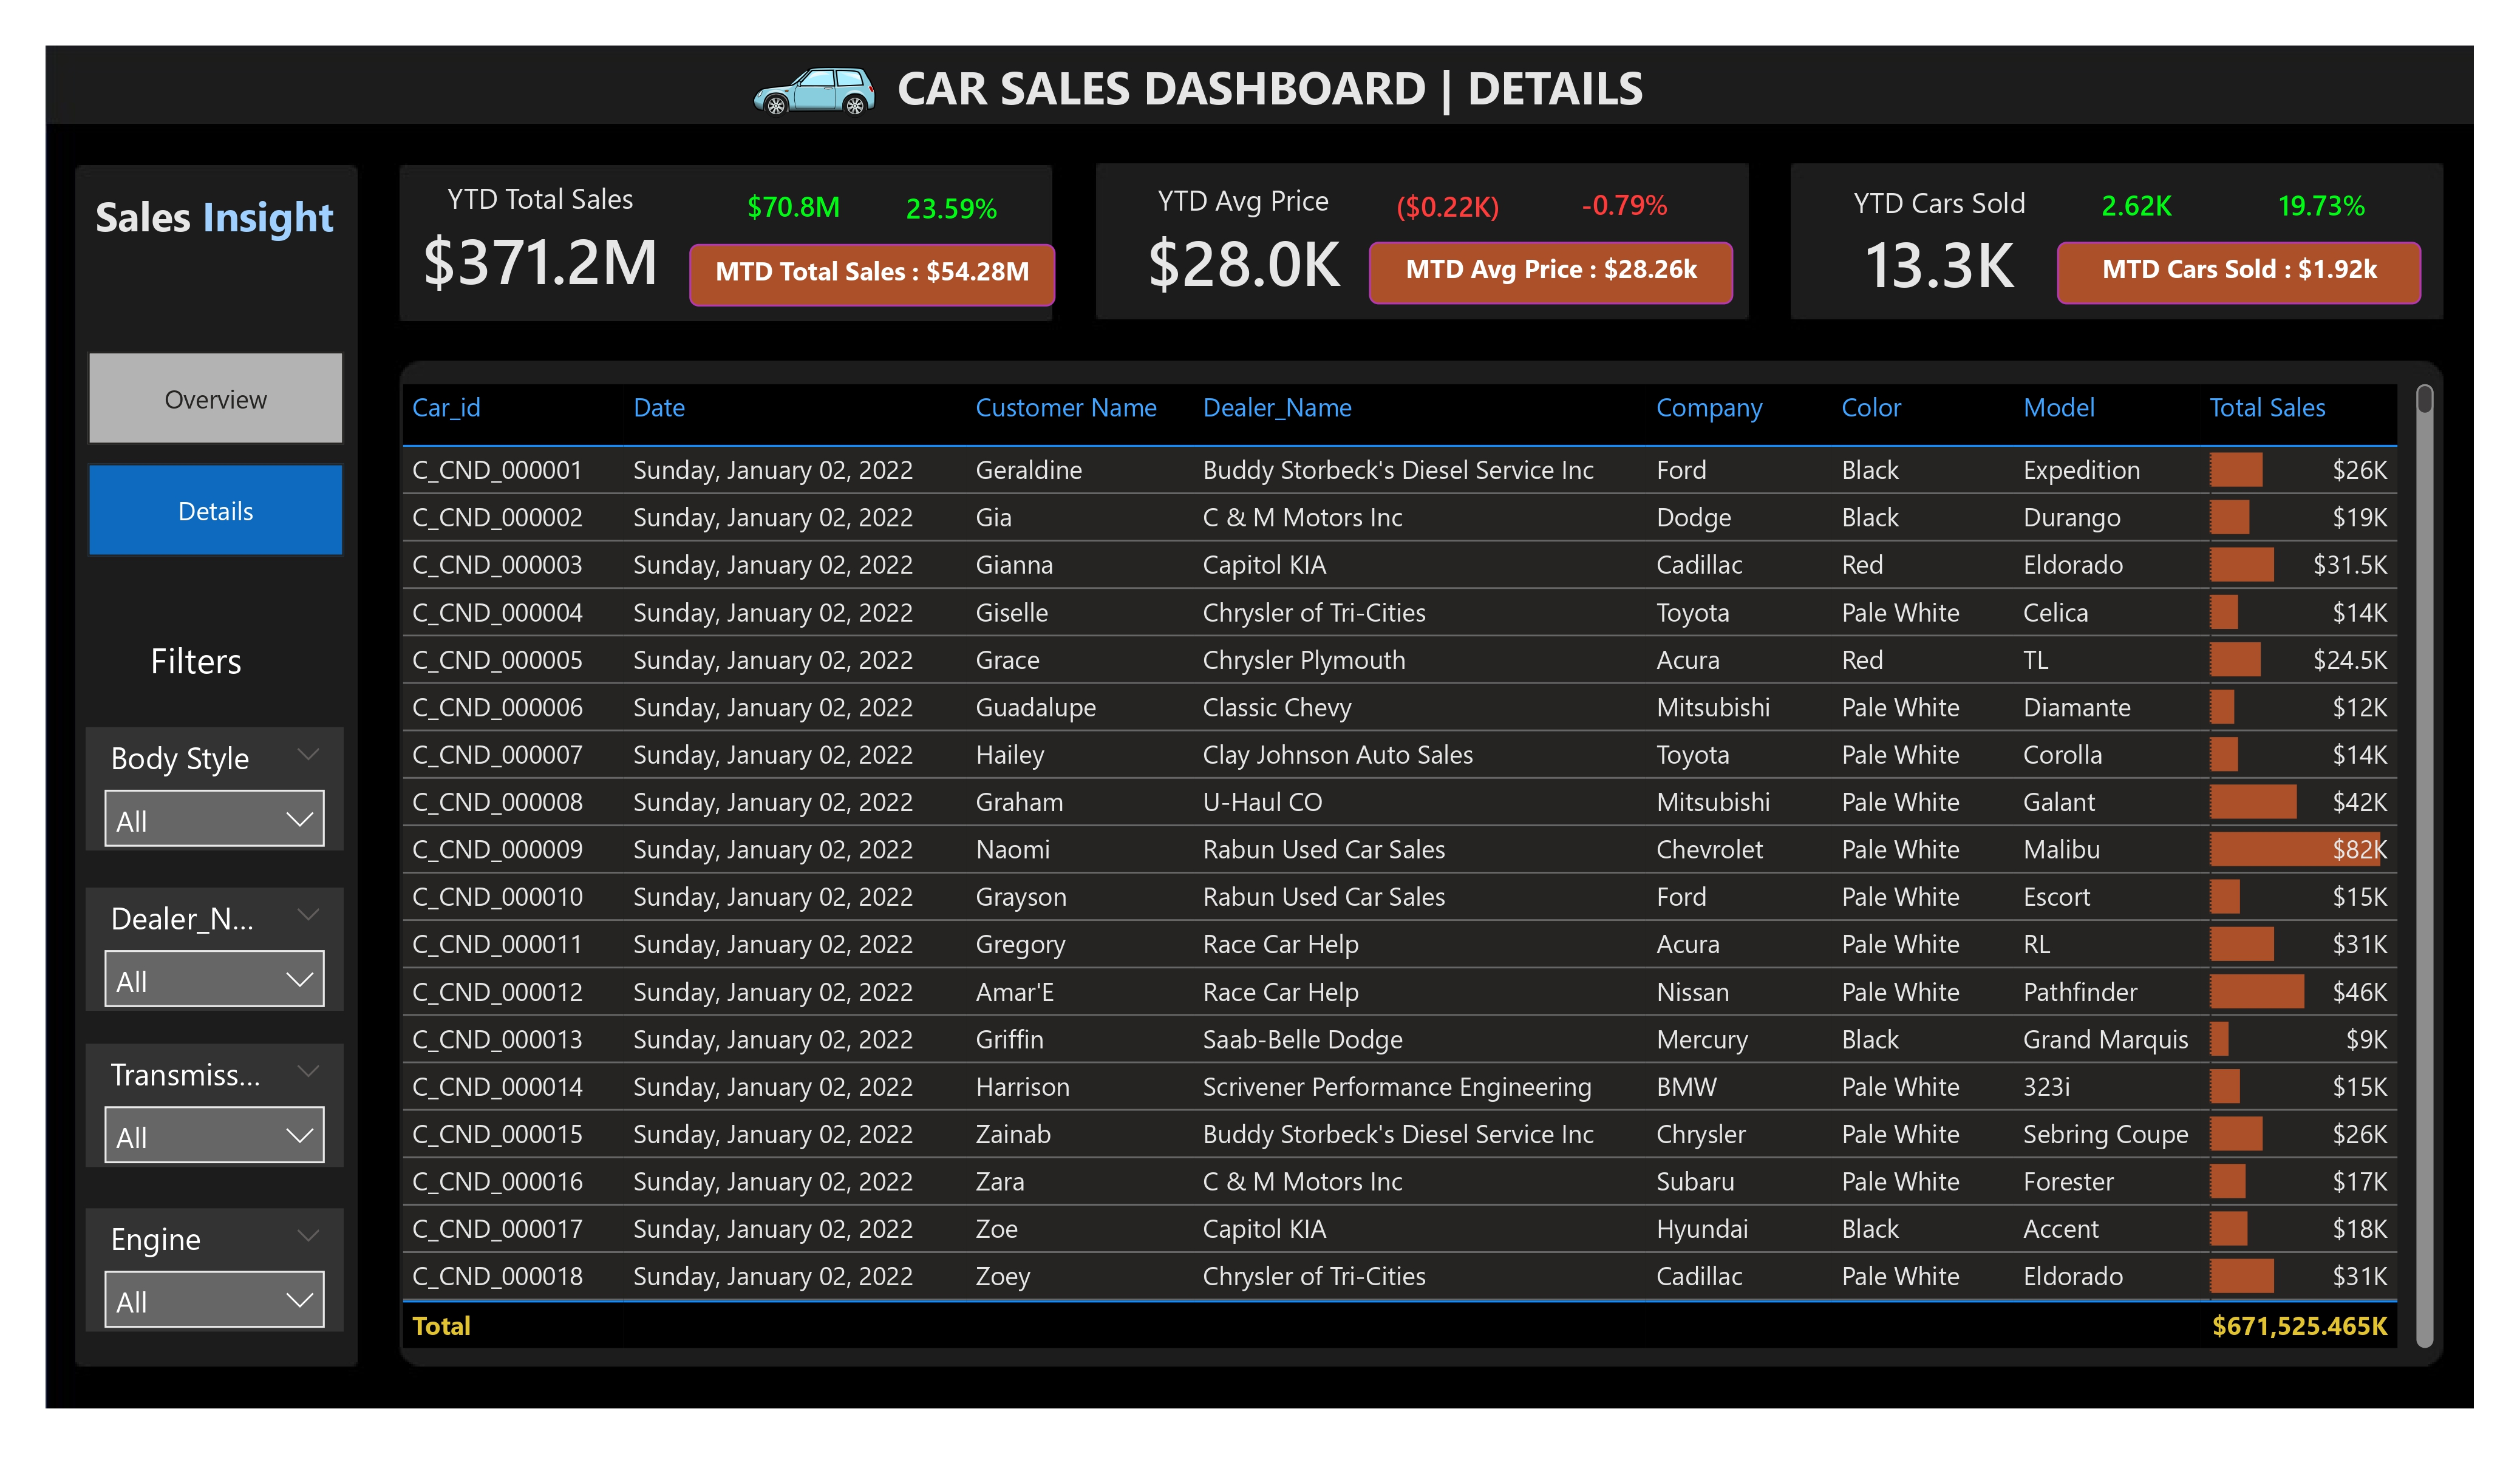

What the dashboard file says about the page in this screenshot:
{"tool":"powerbi","page":{"name":"Details","canvas":[1280,720],"ordinal":1},"visuals":[{"type":"card","title":"YTD Total Sales","fields":{"Values":["car_data.YTD Total Sales"]},"box":[181.9,69.8,157,67.3],"z":0},{"type":"card","fields":{"Values":["car_data.Sales Difference"]},"box":[352.7,69.8,83.5,33.6],"z":1000},{"type":"card","fields":{"Values":["car_data.YoY Sales Growth"]},"box":[436.2,71,83.5,33.6],"z":2000},{"type":"card","fields":{"Values":["car_data.MTD KPI"]},"box":[339,104.7,193.2,33],"z":3000},{"type":"card","title":"YTD Avg Price","fields":{"Values":["car_data.YTD Avg Price"]},"box":[553.3,71,157,67.3],"z":4000},{"type":"card","fields":{"Values":["car_data.Avg Price Diff"]},"box":[697.7,69.7,83.3,33.6],"z":5000},{"type":"card","fields":{"Values":["car_data.YoY Avg Price Growth"]},"box":[790.8,69.1,83,33.9],"z":6000},{"type":"card","fields":{"Values":["car_data.MTD Avg Price KPI"]},"box":[697.3,103.3,192.5,33.1],"z":7000},{"type":"card","title":"YTD Cars Sold","fields":{"Values":["car_data.YTD Cars Sold"]},"box":[920.3,72.7,156.8,66.3],"z":8000},{"type":"card","fields":{"Values":["car_data.Cars Sold Diff"]},"box":[1060.6,68.8,84.1,34.4],"z":9000},{"type":"card","fields":{"Values":["car_data.YoY Cars Sold Growth"]},"box":[1157.4,68.8,84.1,34.4],"z":10000},{"type":"card","fields":{"Values":["car_data.MTD Cars Sold KPI"]},"box":[1060.6,103.3,192.5,33.1],"z":11000},{"type":"textbox","box":[443.6,0,532.8,48.4],"z":12000},{"type":"slicer","fields":{"Values":["car_data.Body Style"]},"box":[21.7,359.5,136.4,65],"z":13000},{"type":"slicer","fields":{"Values":["car_data.Dealer_Name"]},"box":[21.7,443.6,136.4,65],"z":14000},{"type":"slicer","fields":{"Values":["car_data.Transmission"]},"box":[21.7,526.5,136.4,65],"z":15000},{"type":"slicer","fields":{"Values":["car_data.Engine"]},"box":[21.7,613.1,136.4,65],"z":16000},{"type":"textbox","box":[40.8,305.9,76.5,42.1],"z":17000},{"type":"tableEx","fields":{"Values":["car_data.Car_id","car_data.Date","car_data.Customer Name","car_data.Dealer_Name","car_data.Company","car_data.Color","car_data.Model","car_data.Total Sales"]},"box":[182.3,173.4,1081,517.5],"z":18000},{"type":"textbox","box":[21.7,70.1,169.5,49.7],"z":19000},{"type":"pageNavigator","box":[22.4,161.7,135.6,109.5],"z":19001},{"type":"image","box":[360.4,0,91.2,48.9],"z":19002}]}

Visuals, with their boxes on the page's 1280x720 design canvas (x1, y1, x2, y2). These are canvas units, not pixel positions in the 2520x1457 screenshot, which may show the page scaled, cropped or inside an application window:
"YTD Total Sales" card: {"left": 182, "top": 70, "right": 339, "bottom": 137}
card - car_data.Sales Difference: {"left": 353, "top": 70, "right": 436, "bottom": 103}
card - car_data.YoY Sales Growth: {"left": 436, "top": 71, "right": 520, "bottom": 105}
card - car_data.MTD KPI: {"left": 339, "top": 105, "right": 532, "bottom": 138}
"YTD Avg Price" card: {"left": 553, "top": 71, "right": 710, "bottom": 138}
card - car_data.Avg Price Diff: {"left": 698, "top": 70, "right": 781, "bottom": 103}
card - car_data.YoY Avg Price Growth: {"left": 791, "top": 69, "right": 874, "bottom": 103}
card - car_data.MTD Avg Price KPI: {"left": 697, "top": 103, "right": 890, "bottom": 136}
"YTD Cars Sold" card: {"left": 920, "top": 73, "right": 1077, "bottom": 139}
card - car_data.Cars Sold Diff: {"left": 1061, "top": 69, "right": 1145, "bottom": 103}
card - car_data.YoY Cars Sold Growth: {"left": 1157, "top": 69, "right": 1242, "bottom": 103}
card - car_data.MTD Cars Sold KPI: {"left": 1061, "top": 103, "right": 1253, "bottom": 136}
textbox: {"left": 444, "top": 0, "right": 976, "bottom": 48}
slicer - car_data.Body Style: {"left": 22, "top": 360, "right": 158, "bottom": 424}
slicer - car_data.Dealer_Name: {"left": 22, "top": 444, "right": 158, "bottom": 509}
slicer - car_data.Transmission: {"left": 22, "top": 526, "right": 158, "bottom": 592}
slicer - car_data.Engine: {"left": 22, "top": 613, "right": 158, "bottom": 678}
textbox: {"left": 41, "top": 306, "right": 117, "bottom": 348}
tableEx - car_data.Car_id x car_data.Date: {"left": 182, "top": 173, "right": 1263, "bottom": 691}
textbox: {"left": 22, "top": 70, "right": 191, "bottom": 120}
pageNavigator: {"left": 22, "top": 162, "right": 158, "bottom": 271}
image: {"left": 360, "top": 0, "right": 452, "bottom": 49}
